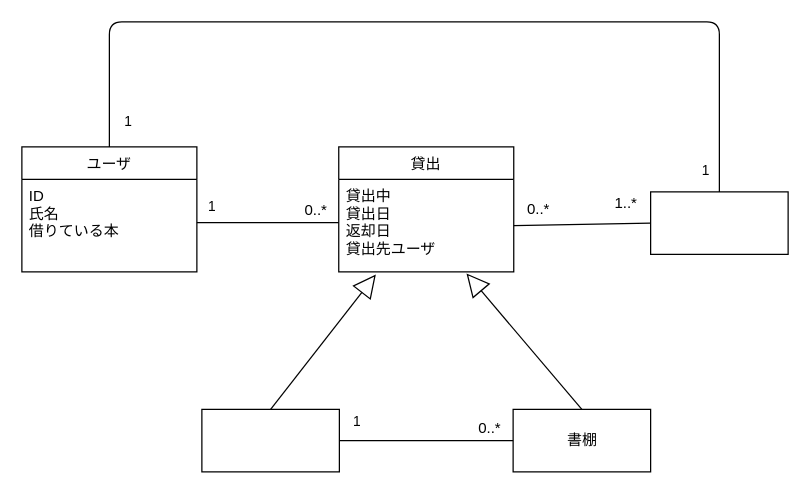
This 810x494 diagram has some shape labels left out. The centre of each missing label's shape, as x and y in pixels:
"タイムライン" goes at point (718, 222).
"書籍" goes at point (270, 440).
